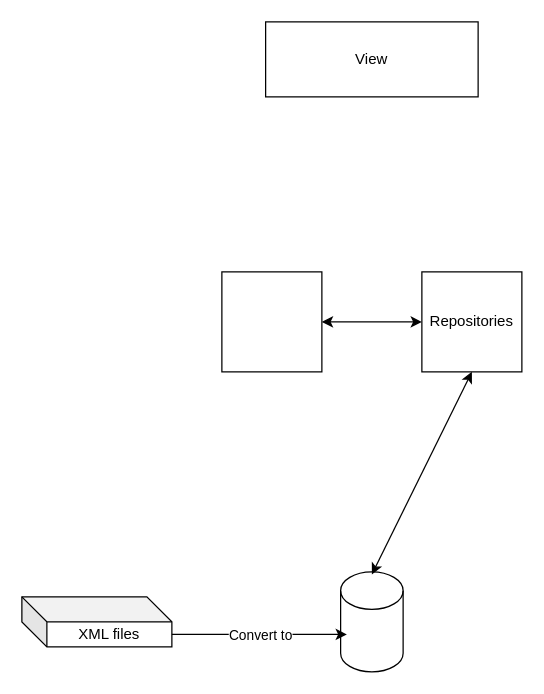
The diagram is 544 pixels wide and 694 high, and some of its shapes have lost their labels. Each missing label, with the centre of its shape:
DB's: (371,621)
SpringJPA Entities: (271,321)
